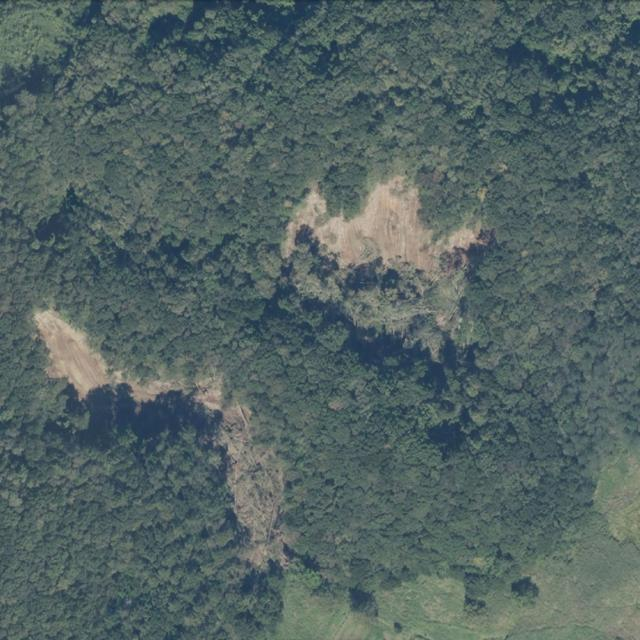landslide: (284, 176, 480, 273), (193, 386, 287, 568), (33, 310, 183, 403), (33, 310, 110, 400)
